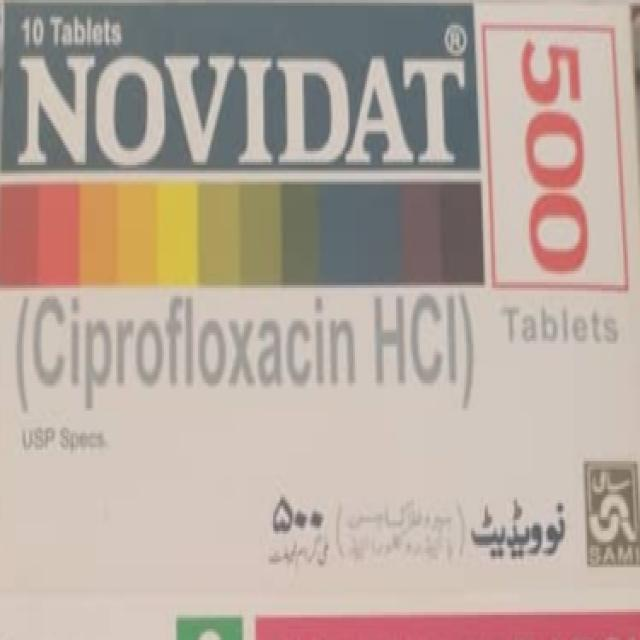drug-name: (14, 54, 470, 164)
